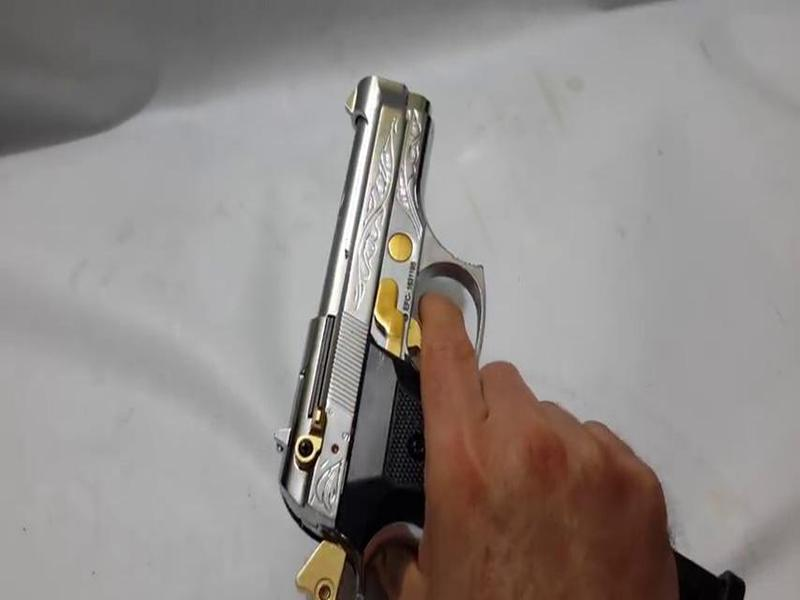Pistola: (260, 58, 536, 600)
